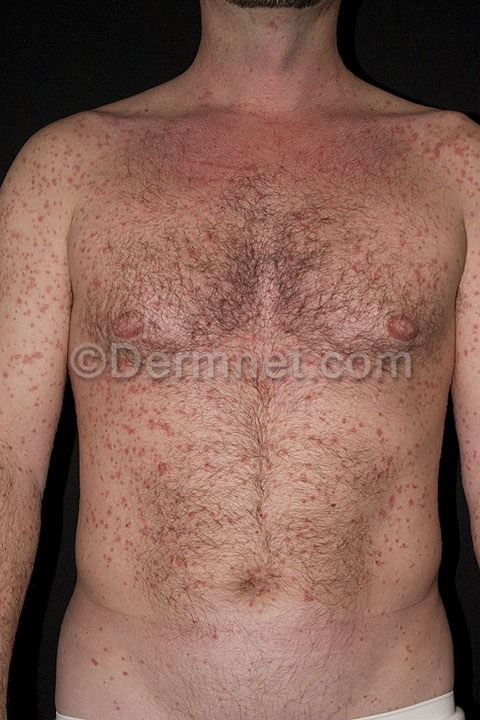Psoriasis: (91, 387, 414, 612), (15, 126, 118, 323), (354, 225, 473, 318), (377, 99, 470, 211)
